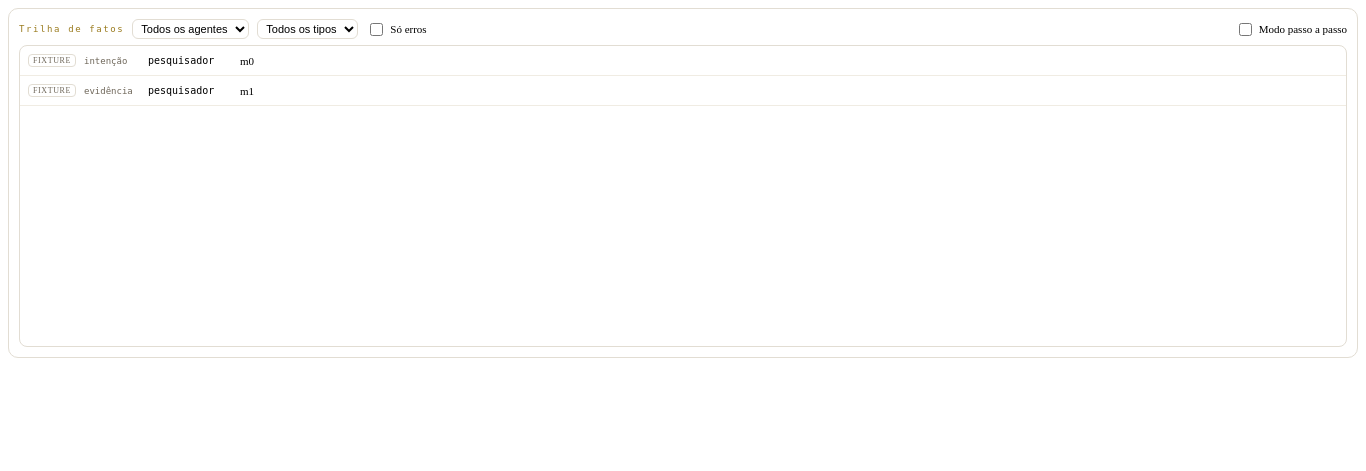
it: SquadTrail — step mode (D8) › walks facts one at a time and shows the context at that step
Click the checkbox labelled "Modo passo a passo".
click(1245, 29)  # box [1239, 22, 1252, 36]
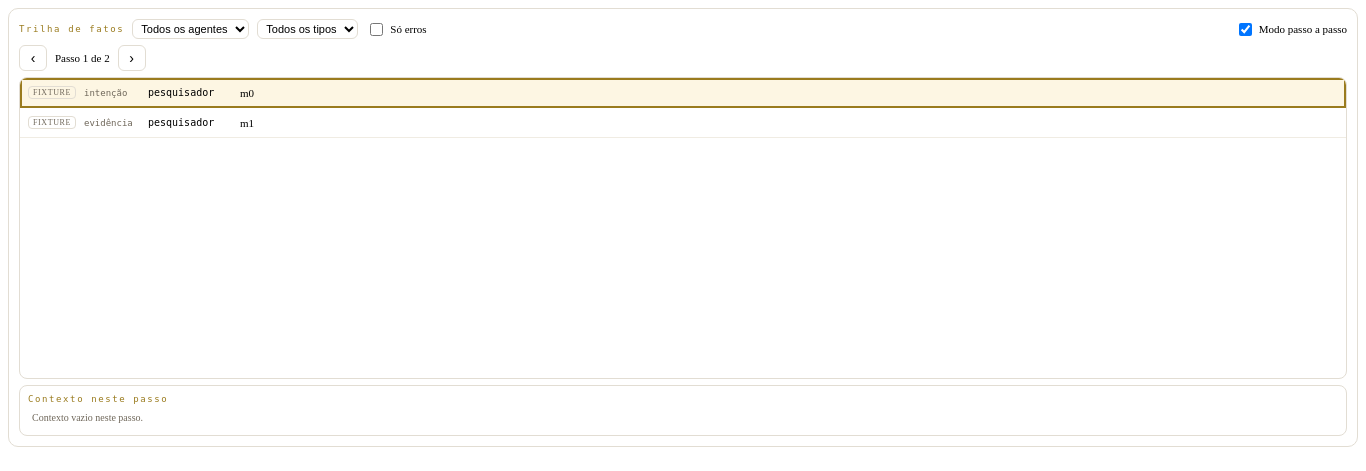
Expected: the text "Passo 1 de 2" is shown, [55, 52, 110, 64]
advance to the evidence fact — its masked context shows
Click the button named "Próximo passo".
click(132, 58)  # box [118, 45, 146, 71]
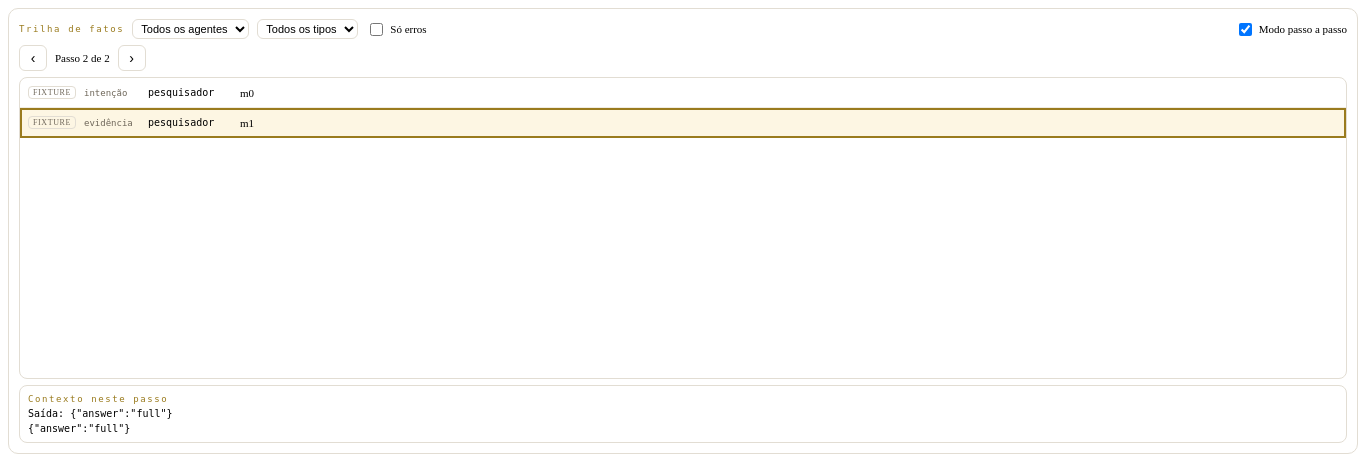
Expected: the text "Passo 2 de 2" is shown, [55, 52, 110, 64]
Expected: the text "{\"answer\":\"full\"}" is shown, [28, 423, 130, 434]
